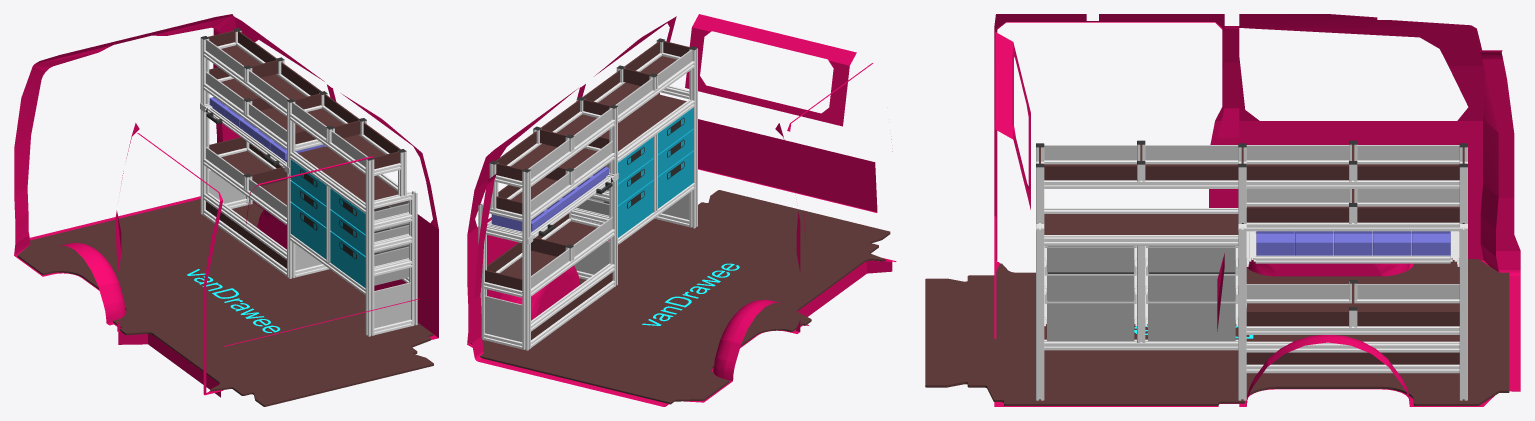
File: vd_export_regalova_vestavba_mercedes_vito_l2_1c9ed11d.glb
The picture shows the model from 3 angles, left to right: view 1: azimuth 30°, elevation 25°; view 2: azimuth 150°, elevation 25°; view 3: azimuth 270°, elevation 25°; orthographic projection. The views are drawn at different scales.
Parts seen in each view (by area): view 1: SomeName041_Mesh_14010, SomeName_Mesh_0012_(1), drawer (×3), SL40x40x1267_Zx2_2 (×7), 40x40x1200_noha (×3), PR10_1266x291 (×2), CUB10_292x260 (×3), PR10_1266x220 (×3), CUB10_635x89_2 (×4), CUB10_635x89 (×4), 40x40x900_noha, SL40x40x1267_Zx2 (+9 smaller); view 2: SomeName041_Mesh_14010, SomeName_Mesh_0012_(1), drawer (×3), SL40x40x1267_Zx2_2 (×7), 40x40x1200_noha (×3), PR10_1266x291 (×2), CUB10_292x260 (×3), PR10_1266x220 (×3), CUB10_635x89 (×4), CUB10_635x89_2 (×4), PR10_635x89_2 (×3), SL40x40x1267_Zx2 (+8 smaller); view 3: SomeName041_Mesh_14010, SomeName_Mesh_0012_(1), SL40x40x1267_Zx2 (×7), 2suplikyocel20kg1301014349 (×2), 2suplikyocel20kg2001014349, SL40x40x1267_Zx2_2 (×6), PR10_635x89_2 (×4), PR10_635x89 (×4), CUB10_635x89 (×4), CUB10_635x89_2 (×4), PR10_1266x291 (×2), 40x40x900_noha (×3) (+7 smaller).
Boxes of the visible parts, x1,y1,x2,y2 form: SomeName041_Mesh_14010: [17, 199, 433, 406]; SomeName_Mesh_0012_(1): [14, 14, 438, 397]; drawer (×3): [290, 159, 365, 288]; SL40x40x1267_Zx2_2 (×7): [203, 50, 365, 294]; 40x40x1200_noha (×3): [200, 38, 374, 336]; PR10_1266x291 (×2): [221, 146, 408, 209]; CUB10_292x260 (×3): [209, 170, 410, 328]; PR10_1266x220 (×3): [221, 45, 384, 157]; CUB10_635x89_2 (×4): [249, 70, 367, 217]; CUB10_635x89 (×4): [206, 39, 326, 185]; 40x40x900_noha: [409, 191, 417, 326]; SL40x40x1267_Zx2: [203, 193, 286, 259]; SomeName041_Mesh_14010: [470, 190, 890, 404]; SomeName_Mesh_0012_(1): [467, 14, 896, 406]; drawer (×3): [618, 107, 693, 237]; SL40x40x1267_Zx2_2 (×7): [531, 61, 694, 347]; 40x40x1200_noha (×3): [522, 48, 697, 350]; PR10_1266x291 (×2): [500, 94, 686, 278]; CUB10_292x260 (×3): [485, 193, 689, 342]; PR10_1266x220 (×3): [511, 56, 676, 202]; CUB10_635x89 (×4): [528, 78, 652, 288]; CUB10_635x89_2 (×4): [573, 49, 692, 256]; PR10_635x89_2 (×3): [487, 70, 619, 272]; SL40x40x1267_Zx2: [531, 263, 614, 331]; SomeName041_Mesh_14010: [925, 259, 1509, 405]; SomeName_Mesh_0012_(1): [994, 14, 1520, 406]; SL40x40x1267_Zx2 (×7): [1044, 180, 1459, 352]; 2suplikyocel20kg1301014349 (×2): [1044, 246, 1237, 299]; 2suplikyocel20kg2001014349: [1044, 293, 1237, 341]; SL40x40x1267_Zx2_2 (×6): [1044, 160, 1459, 373]; PR10_635x89_2 (×4): [1145, 165, 1459, 326]; PR10_635x89 (×4): [1044, 165, 1348, 326]; CUB10_635x89 (×4): [1145, 145, 1459, 299]; CUB10_635x89_2 (×4): [1044, 145, 1348, 299]; PR10_1266x291 (×2): [1044, 214, 1459, 311]; 40x40x900_noha (×3): [1036, 228, 1467, 400].
Bounding box in the file's own units: 1669 × 1473 × 2864.
